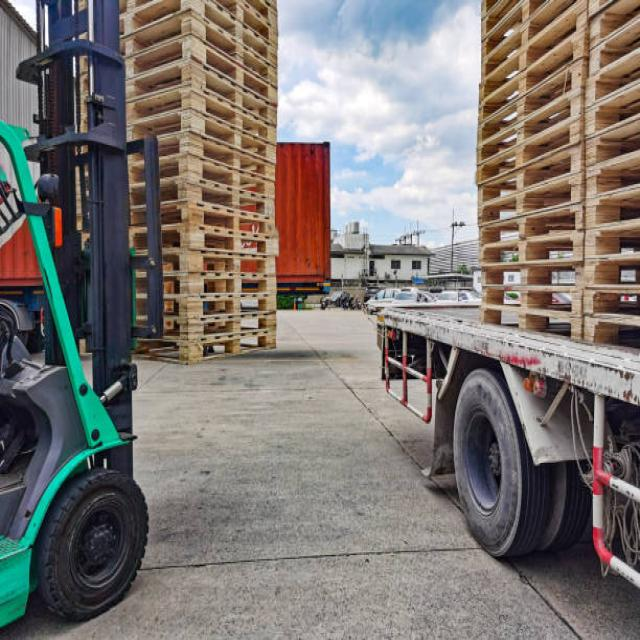Wooden-Pallets: (123, 8, 288, 101), (469, 54, 583, 155), (128, 81, 286, 150), (472, 144, 581, 209), (474, 226, 581, 274)
